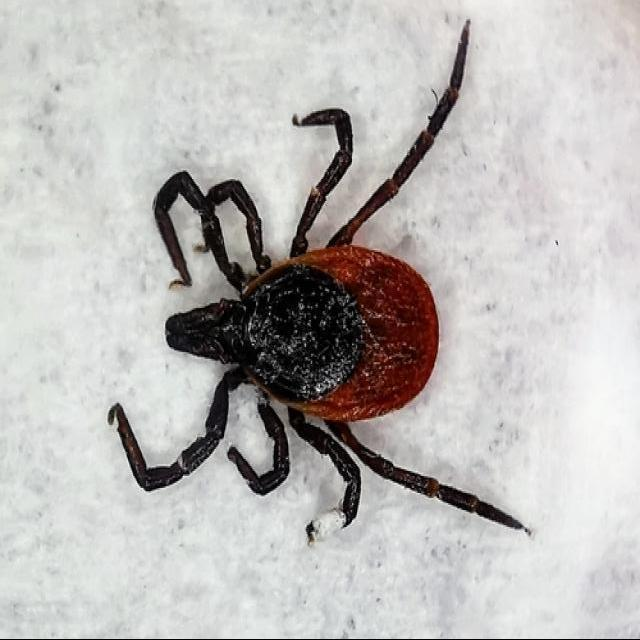Ixodes Ricinus-F: (109, 51, 521, 545)
